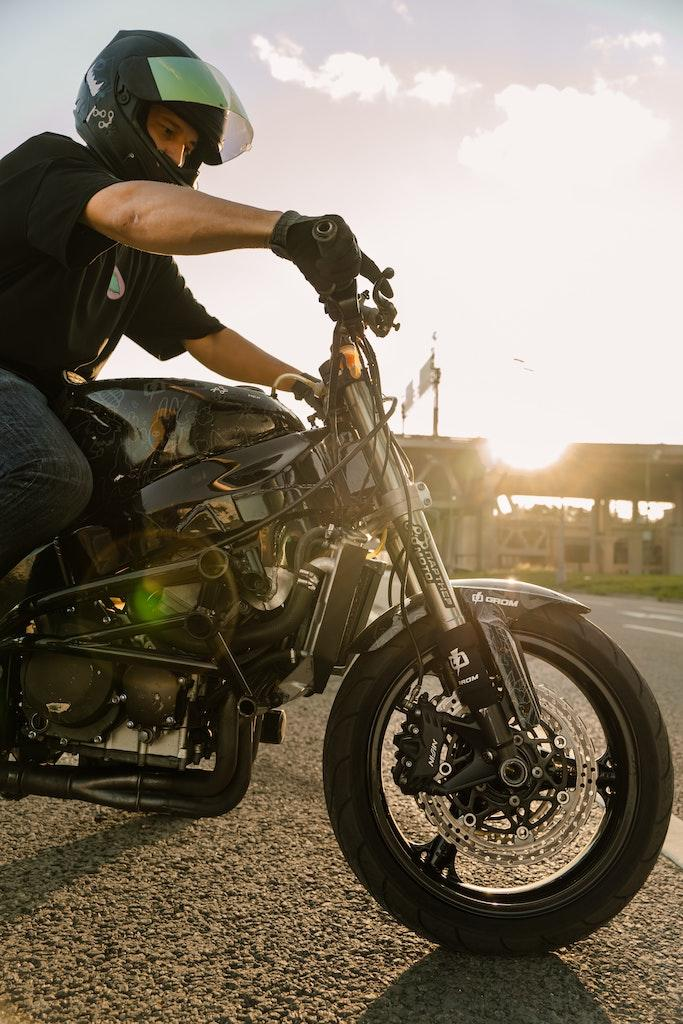helmet: (72, 28, 256, 218)
